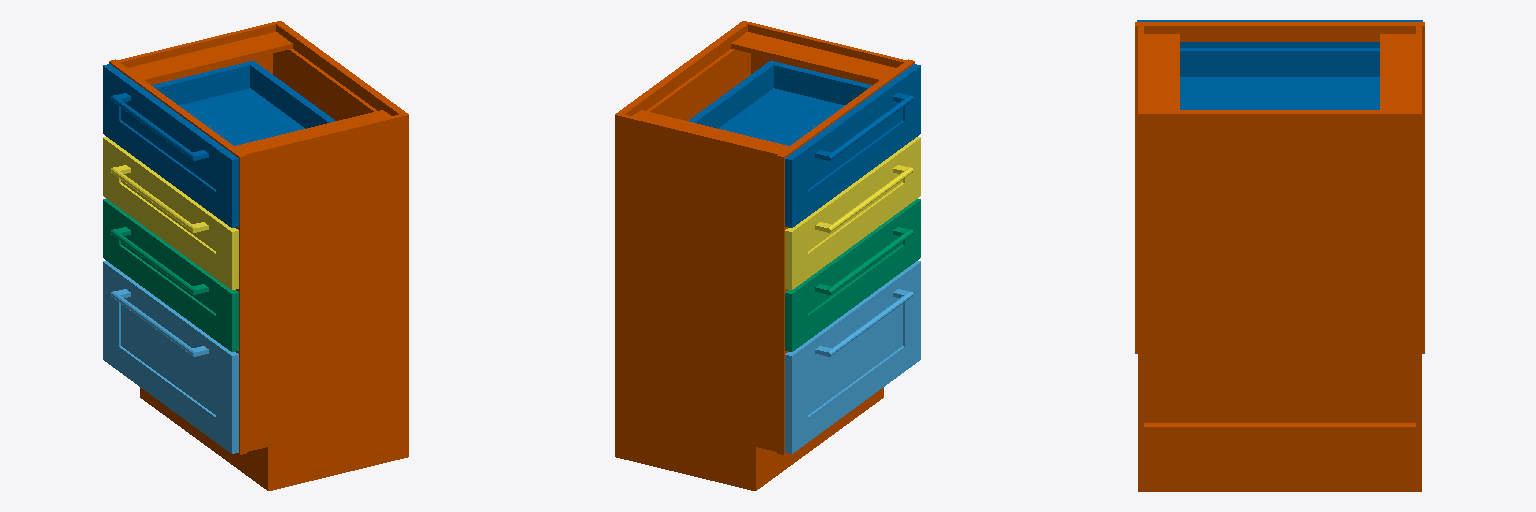
--- What the picture shows (computed from the rendered views, not written in the file) ---
3 views of the same robot in one strip: view 1: azimuth 30°, elevation 25°; view 2: azimuth 150°, elevation 25°; view 3: azimuth 270°, elevation 25° (orthographic).
Robot: partnet_2bdedc5d70cda02cc59350d819542ec7 — 6 links, 5 joints (4 prismatic, 1 fixed); root link base; default pose: all joints at 0.
Visible links, largest first — view 1: link_4, link_3, link_0, link_1, link_2; view 2: link_4, link_3, link_0, link_1, link_2; view 3: link_4, link_3.
Boxes of the visible links, x1,y1,x2,y2 form: link_4: (109,21,408,490); link_3: (103,61,334,227); link_0: (103,261,238,453); link_1: (103,199,238,351); link_2: (103,137,238,289); link_4: (615,21,914,490); link_3: (689,61,920,227); link_0: (785,261,920,453); link_1: (785,199,920,351); link_2: (785,137,920,289); link_4: (1135,22,1424,491); link_3: (1137,20,1422,109).
Size in the robot's own frame: 0.8572 by 1.01 by 1.45 metres.
85 mesh visuals loaded from 85 distinct referenced files (85 OBJ).

The robot description file, URDF, robot "partnet_2bdedc5d70cda02cc59350d819542ec7":
<?xml version="1.0" ?>
<robot name="partnet_2bdedc5d70cda02cc59350d819542ec7">
	<link name="base">
		<inertial>
			<origin xyz="0 0 0"/>
			<mass value="0.01"/>
			<inertia ixx="0.0001" ixy="0" ixz="0" iyy="0.0001" iyz="0" izz="0.0001"/>
		</inertial>
	</link>
	<link name="link_0">
		<visual name="drawer_front-31">
			<origin xyz="0.009567187752129709 0.435532604741988 -0.3665049970149996"/>
			<geometry>
				<mesh filename="textured_objs/original-63.obj"/>
			</geometry>
		</visual>
		<visual name="drawer_front-31">
			<origin xyz="0.009567187752129709 0.435532604741988 -0.3665049970149996"/>
			<geometry>
				<mesh filename="textured_objs/original-60.obj"/>
			</geometry>
		</visual>
		<visual name="drawer_front-31">
			<origin xyz="0.009567187752129709 0.435532604741988 -0.3665049970149996"/>
			<geometry>
				<mesh filename="textured_objs/original-59.obj"/>
			</geometry>
		</visual>
		<visual name="drawer_front-31">
			<origin xyz="0.009567187752129709 0.435532604741988 -0.3665049970149996"/>
			<geometry>
				<mesh filename="textured_objs/original-58.obj"/>
			</geometry>
		</visual>
		<visual name="drawer_front-31">
			<origin xyz="0.009567187752129709 0.435532604741988 -0.3665049970149996"/>
			<geometry>
				<mesh filename="textured_objs/original-57.obj"/>
			</geometry>
		</visual>
		<visual name="drawer_front-31">
			<origin xyz="0.009567187752129709 0.435532604741988 -0.3665049970149996"/>
			<geometry>
				<mesh filename="textured_objs/original-62.obj"/>
			</geometry>
		</visual>
		<visual name="drawer_front-31">
			<origin xyz="0.009567187752129709 0.435532604741988 -0.3665049970149996"/>
			<geometry>
				<mesh filename="textured_objs/original-49.obj"/>
			</geometry>
		</visual>
		<visual name="drawer_side-32">
			<origin xyz="0.009567187752129709 0.435532604741988 -0.3665049970149996"/>
			<geometry>
				<mesh filename="textured_objs/original-48.obj"/>
			</geometry>
		</visual>
		<visual name="drawer_side-33">
			<origin xyz="0.009567187752129709 0.435532604741988 -0.3665049970149996"/>
			<geometry>
				<mesh filename="textured_objs/original-53.obj"/>
			</geometry>
		</visual>
		<visual name="drawer_side-33">
			<origin xyz="0.009567187752129709 0.435532604741988 -0.3665049970149996"/>
			<geometry>
				<mesh filename="textured_objs/original-55.obj"/>
			</geometry>
		</visual>
		<visual name="drawer_back-34">
			<origin xyz="0.009567187752129709 0.435532604741988 -0.3665049970149996"/>
			<geometry>
				<mesh filename="textured_objs/original-54.obj"/>
			</geometry>
		</visual>
		<visual name="drawer_bottom-35">
			<origin xyz="0.009567187752129709 0.435532604741988 -0.3665049970149996"/>
			<geometry>
				<mesh filename="textured_objs/original-52.obj"/>
			</geometry>
		</visual>
		<visual name="drawer_bottom-35">
			<origin xyz="0.009567187752129709 0.435532604741988 -0.3665049970149996"/>
			<geometry>
				<mesh filename="textured_objs/original-51.obj"/>
			</geometry>
		</visual>
		<visual name="handle-30">
			<origin xyz="0.009567187752129709 0.435532604741988 -0.3665049970149996"/>
			<geometry>
				<mesh filename="textured_objs/original-65.obj"/>
			</geometry>
		</visual>
		<visual name="handle-30">
			<origin xyz="0.009567187752129709 0.435532604741988 -0.3665049970149996"/>
			<geometry>
				<mesh filename="textured_objs/original-66.obj"/>
			</geometry>
		</visual>
		<visual name="handle-30">
			<origin xyz="0.009567187752129709 0.435532604741988 -0.3665049970149996"/>
			<geometry>
				<mesh filename="textured_objs/original-67.obj"/>
			</geometry>
		</visual>
		<collision>
			<origin xyz="0.009567187752129709 0.435532604741988 -0.3665049970149996"/>
			<geometry>
				<mesh filename="textured_objs/original-63.obj"/>
			</geometry>
		</collision>
		<collision>
			<origin xyz="0.009567187752129709 0.435532604741988 -0.3665049970149996"/>
			<geometry>
				<mesh filename="textured_objs/original-60.obj"/>
			</geometry>
		</collision>
		<collision>
			<origin xyz="0.009567187752129709 0.435532604741988 -0.3665049970149996"/>
			<geometry>
				<mesh filename="textured_objs/original-59.obj"/>
			</geometry>
		</collision>
		<collision>
			<origin xyz="0.009567187752129709 0.435532604741988 -0.3665049970149996"/>
			<geometry>
				<mesh filename="textured_objs/original-58.obj"/>
			</geometry>
		</collision>
		<collision>
			<origin xyz="0.009567187752129709 0.435532604741988 -0.3665049970149996"/>
			<geometry>
				<mesh filename="textured_objs/original-57.obj"/>
			</geometry>
		</collision>
		<collision>
			<origin xyz="0.009567187752129709 0.435532604741988 -0.3665049970149996"/>
			<geometry>
				<mesh filename="textured_objs/original-62.obj"/>
			</geometry>
		</collision>
		<collision>
			<origin xyz="0.009567187752129709 0.435532604741988 -0.3665049970149996"/>
			<geometry>
				<mesh filename="textured_objs/original-49.obj"/>
			</geometry>
		</collision>
		<collision>
			<origin xyz="0.009567187752129709 0.435532604741988 -0.3665049970149996"/>
			<geometry>
				<mesh filename="textured_objs/original-48.obj"/>
			</geometry>
		</collision>
		<collision>
			<origin xyz="0.009567187752129709 0.435532604741988 -0.3665049970149996"/>
			<geometry>
				<mesh filename="textured_objs/original-53.obj"/>
			</geometry>
		</collision>
		<collision>
			<origin xyz="0.009567187752129709 0.435532604741988 -0.3665049970149996"/>
			<geometry>
				<mesh filename="textured_objs/original-55.obj"/>
			</geometry>
		</collision>
		<collision>
			<origin xyz="0.009567187752129709 0.435532604741988 -0.3665049970149996"/>
			<geometry>
				<mesh filename="textured_objs/original-54.obj"/>
			</geometry>
		</collision>
		<collision>
			<origin xyz="0.009567187752129709 0.435532604741988 -0.3665049970149996"/>
			<geometry>
				<mesh filename="textured_objs/original-52.obj"/>
			</geometry>
		</collision>
		<collision>
			<origin xyz="0.009567187752129709 0.435532604741988 -0.3665049970149996"/>
			<geometry>
				<mesh filename="textured_objs/original-51.obj"/>
			</geometry>
		</collision>
		<collision>
			<origin xyz="0.009567187752129709 0.435532604741988 -0.3665049970149996"/>
			<geometry>
				<mesh filename="textured_objs/original-65.obj"/>
			</geometry>
		</collision>
		<collision>
			<origin xyz="0.009567187752129709 0.435532604741988 -0.3665049970149996"/>
			<geometry>
				<mesh filename="textured_objs/original-66.obj"/>
			</geometry>
		</collision>
		<collision>
			<origin xyz="0.009567187752129709 0.435532604741988 -0.3665049970149996"/>
			<geometry>
				<mesh filename="textured_objs/original-67.obj"/>
			</geometry>
		</collision>
		<inertial>
			<origin xyz="0 0 0"/>
			<mass value="0.05"/>
			<inertia ixx="0.001" ixy="0" ixz="0" iyy="0.001" iyz="0" izz="0.001"/>
		</inertial>
	</link>
	<joint name="joint_0" type="prismatic">
		<origin xyz="-0.009567187752129709 -0.435532604741988 0.3665049970149996"/>
		<axis xyz="0 0 1"/>
		<child link="link_0"/>
		<parent link="link_4"/>
		<limit lower="0" upper="0.504"/>
		<dynamics damping="0.1" friction="0.01"/>
	</joint>
	<link name="link_1">
		<visual name="drawer_front-24">
			<origin xyz="0.02519710065310901 0.06335592315963547 0.36449798941612244"/>
			<geometry>
				<mesh filename="textured_objs/original-104.obj"/>
			</geometry>
		</visual>
		<visual name="drawer_front-24">
			<origin xyz="0.02519710065310901 0.06335592315963547 0.36449798941612244"/>
			<geometry>
				<mesh filename="textured_objs/original-107.obj"/>
			</geometry>
		</visual>
		<visual name="drawer_front-24">
			<origin xyz="0.02519710065310901 0.06335592315963547 0.36449798941612244"/>
			<geometry>
				<mesh filename="textured_objs/original-101.obj"/>
			</geometry>
		</visual>
		<visual name="drawer_front-24">
			<origin xyz="0.02519710065310901 0.06335592315963547 0.36449798941612244"/>
			<geometry>
				<mesh filename="textured_objs/original-103.obj"/>
			</geometry>
		</visual>
		<visual name="drawer_front-24">
			<origin xyz="0.02519710065310901 0.06335592315963547 0.36449798941612244"/>
			<geometry>
				<mesh filename="textured_objs/original-102.obj"/>
			</geometry>
		</visual>
		<visual name="drawer_front-24">
			<origin xyz="0.02519710065310901 0.06335592315963547 0.36449798941612244"/>
			<geometry>
				<mesh filename="textured_objs/original-93.obj"/>
			</geometry>
		</visual>
		<visual name="drawer_front-24">
			<origin xyz="0.02519710065310901 0.06335592315963547 0.36449798941612244"/>
			<geometry>
				<mesh filename="textured_objs/original-106.obj"/>
			</geometry>
		</visual>
		<visual name="drawer_side-25">
			<origin xyz="0.02519710065310901 0.06335592315963547 0.36449798941612244"/>
			<geometry>
				<mesh filename="textured_objs/original-92.obj"/>
			</geometry>
		</visual>
		<visual name="drawer_side-26">
			<origin xyz="0.02519710065310901 0.06335592315963547 0.36449798941612244"/>
			<geometry>
				<mesh filename="textured_objs/original-99.obj"/>
			</geometry>
		</visual>
		<visual name="drawer_side-26">
			<origin xyz="0.02519710065310901 0.06335592315963547 0.36449798941612244"/>
			<geometry>
				<mesh filename="textured_objs/original-97.obj"/>
			</geometry>
		</visual>
		<visual name="drawer_back-27">
			<origin xyz="0.02519710065310901 0.06335592315963547 0.36449798941612244"/>
			<geometry>
				<mesh filename="textured_objs/original-98.obj"/>
			</geometry>
		</visual>
		<visual name="drawer_bottom-28">
			<origin xyz="0.02519710065310901 0.06335592315963547 0.36449798941612244"/>
			<geometry>
				<mesh filename="textured_objs/original-96.obj"/>
			</geometry>
		</visual>
		<visual name="drawer_bottom-28">
			<origin xyz="0.02519710065310901 0.06335592315963547 0.36449798941612244"/>
			<geometry>
				<mesh filename="textured_objs/original-95.obj"/>
			</geometry>
		</visual>
		<visual name="handle-23">
			<origin xyz="0.02519710065310901 0.06335592315963547 0.36449798941612244"/>
			<geometry>
				<mesh filename="textured_objs/original-109.obj"/>
			</geometry>
		</visual>
		<visual name="handle-23">
			<origin xyz="0.02519710065310901 0.06335592315963547 0.36449798941612244"/>
			<geometry>
				<mesh filename="textured_objs/original-110.obj"/>
			</geometry>
		</visual>
		<visual name="handle-23">
			<origin xyz="0.02519710065310901 0.06335592315963547 0.36449798941612244"/>
			<geometry>
				<mesh filename="textured_objs/original-111.obj"/>
			</geometry>
		</visual>
		<collision>
			<origin xyz="0.02519710065310901 0.06335592315963547 0.36449798941612244"/>
			<geometry>
				<mesh filename="textured_objs/original-104.obj"/>
			</geometry>
		</collision>
		<collision>
			<origin xyz="0.02519710065310901 0.06335592315963547 0.36449798941612244"/>
			<geometry>
				<mesh filename="textured_objs/original-107.obj"/>
			</geometry>
		</collision>
		<collision>
			<origin xyz="0.02519710065310901 0.06335592315963547 0.36449798941612244"/>
			<geometry>
				<mesh filename="textured_objs/original-101.obj"/>
			</geometry>
		</collision>
		<collision>
			<origin xyz="0.02519710065310901 0.06335592315963547 0.36449798941612244"/>
			<geometry>
				<mesh filename="textured_objs/original-103.obj"/>
			</geometry>
		</collision>
		<collision>
			<origin xyz="0.02519710065310901 0.06335592315963547 0.36449798941612244"/>
			<geometry>
				<mesh filename="textured_objs/original-102.obj"/>
			</geometry>
		</collision>
		<collision>
			<origin xyz="0.02519710065310901 0.06335592315963547 0.36449798941612244"/>
			<geometry>
				<mesh filename="textured_objs/original-93.obj"/>
			</geometry>
		</collision>
		<collision>
			<origin xyz="0.02519710065310901 0.06335592315963547 0.36449798941612244"/>
			<geometry>
				<mesh filename="textured_objs/original-106.obj"/>
			</geometry>
		</collision>
		<collision>
			<origin xyz="0.02519710065310901 0.06335592315963547 0.36449798941612244"/>
			<geometry>
				<mesh filename="textured_objs/original-92.obj"/>
			</geometry>
		</collision>
		<collision>
			<origin xyz="0.02519710065310901 0.06335592315963547 0.36449798941612244"/>
			<geometry>
				<mesh filename="textured_objs/original-99.obj"/>
			</geometry>
		</collision>
		<collision>
			<origin xyz="0.02519710065310901 0.06335592315963547 0.36449798941612244"/>
			<geometry>
				<mesh filename="textured_objs/original-97.obj"/>
			</geometry>
		</collision>
		<collision>
			<origin xyz="0.02519710065310901 0.06335592315963547 0.36449798941612244"/>
			<geometry>
				<mesh filename="textured_objs/original-98.obj"/>
			</geometry>
		</collision>
		<collision>
			<origin xyz="0.02519710065310901 0.06335592315963547 0.36449798941612244"/>
			<geometry>
				<mesh filename="textured_objs/original-96.obj"/>
			</geometry>
		</collision>
		<collision>
			<origin xyz="0.02519710065310901 0.06335592315963547 0.36449798941612244"/>
			<geometry>
				<mesh filename="textured_objs/original-95.obj"/>
			</geometry>
		</collision>
		<collision>
			<origin xyz="0.02519710065310901 0.06335592315963547 0.36449798941612244"/>
			<geometry>
				<mesh filename="textured_objs/original-109.obj"/>
			</geometry>
		</collision>
		<collision>
			<origin xyz="0.02519710065310901 0.06335592315963547 0.36449798941612244"/>
			<geometry>
				<mesh filename="textured_objs/original-110.obj"/>
			</geometry>
		</collision>
		<collision>
			<origin xyz="0.02519710065310901 0.06335592315963547 0.36449798941612244"/>
			<geometry>
				<mesh filename="textured_objs/original-111.obj"/>
			</geometry>
		</collision>
		<inertial>
			<origin xyz="0 0 0"/>
			<mass value="0.05"/>
			<inertia ixx="0.001" ixy="0" ixz="0" iyy="0.001" iyz="0" izz="0.001"/>
		</inertial>
	</link>
	<joint name="joint_1" type="prismatic">
		<origin xyz="-0.02519710065310901 -0.06335592315963547 -0.36449798941612244"/>
		<axis xyz="0 0 1"/>
		<child link="link_1"/>
		<parent link="link_4"/>
		<limit lower="0" upper="0.504"/>
		<dynamics damping="0.1" friction="0.01"/>
	</joint>
	<link name="link_2">
		<visual name="drawer_front-17">
			<origin xyz="-0.002580218835720018 -0.21246546052932785 0.36449798941612244"/>
			<geometry>
				<mesh filename="textured_objs/original-79.obj"/>
			</geometry>
		</visual>
		<visual name="drawer_front-17">
			<origin xyz="-0.002580218835720018 -0.21246546052932785 0.36449798941612244"/>
			<geometry>
				<mesh filename="textured_objs/original-85.obj"/>
			</geometry>
		</visual>
		<visual name="drawer_front-17">
			<origin xyz="-0.002580218835720018 -0.21246546052932785 0.36449798941612244"/>
			<geometry>
				<mesh filename="textured_objs/original-80.obj"/>
			</geometry>
		</visual>
		<visual name="drawer_front-17">
			<origin xyz="-0.002580218835720018 -0.21246546052932785 0.36449798941612244"/>
			<geometry>
				<mesh filename="textured_objs/original-82.obj"/>
			</geometry>
		</visual>
		<visual name="drawer_front-17">
			<origin xyz="-0.002580218835720018 -0.21246546052932785 0.36449798941612244"/>
			<geometry>
				<mesh filename="textured_objs/original-84.obj"/>
			</geometry>
		</visual>
		<visual name="drawer_front-17">
			<origin xyz="-0.002580218835720018 -0.21246546052932785 0.36449798941612244"/>
			<geometry>
				<mesh filename="textured_objs/original-81.obj"/>
			</geometry>
		</visual>
		<visual name="drawer_front-17">
			<origin xyz="-0.002580218835720018 -0.21246546052932785 0.36449798941612244"/>
			<geometry>
				<mesh filename="textured_objs/original-71.obj"/>
			</geometry>
		</visual>
		<visual name="drawer_side-18">
			<origin xyz="-0.002580218835720018 -0.21246546052932785 0.36449798941612244"/>
			<geometry>
				<mesh filename="textured_objs/original-75.obj"/>
			</geometry>
		</visual>
		<visual name="drawer_side-18">
			<origin xyz="-0.002580218835720018 -0.21246546052932785 0.36449798941612244"/>
			<geometry>
				<mesh filename="textured_objs/original-77.obj"/>
			</geometry>
		</visual>
		<visual name="drawer_side-19">
			<origin xyz="-0.002580218835720018 -0.21246546052932785 0.36449798941612244"/>
			<geometry>
				<mesh filename="textured_objs/original-70.obj"/>
			</geometry>
		</visual>
		<visual name="drawer_back-20">
			<origin xyz="-0.002580218835720018 -0.21246546052932785 0.36449798941612244"/>
			<geometry>
				<mesh filename="textured_objs/original-76.obj"/>
			</geometry>
		</visual>
		<visual name="drawer_bottom-21">
			<origin xyz="-0.002580218835720018 -0.21246546052932785 0.36449798941612244"/>
			<geometry>
				<mesh filename="textured_objs/original-74.obj"/>
			</geometry>
		</visual>
		<visual name="drawer_bottom-21">
			<origin xyz="-0.002580218835720018 -0.21246546052932785 0.36449798941612244"/>
			<geometry>
				<mesh filename="textured_objs/original-73.obj"/>
			</geometry>
		</visual>
		<visual name="handle-16">
			<origin xyz="-0.002580218835720018 -0.21246546052932785 0.36449798941612244"/>
			<geometry>
				<mesh filename="textured_objs/original-87.obj"/>
			</geometry>
		</visual>
		<visual name="handle-16">
			<origin xyz="-0.002580218835720018 -0.21246546052932785 0.36449798941612244"/>
			<geometry>
				<mesh filename="textured_objs/original-88.obj"/>
			</geometry>
		</visual>
		<visual name="handle-16">
			<origin xyz="-0.002580218835720018 -0.21246546052932785 0.36449798941612244"/>
			<geometry>
				<mesh filename="textured_objs/original-89.obj"/>
			</geometry>
		</visual>
		<collision>
			<origin xyz="-0.002580218835720018 -0.21246546052932785 0.36449798941612244"/>
			<geometry>
				<mesh filename="textured_objs/original-79.obj"/>
			</geometry>
		</collision>
		<collision>
			<origin xyz="-0.002580218835720018 -0.21246546052932785 0.36449798941612244"/>
			<geometry>
				<mesh filename="textured_objs/original-85.obj"/>
			</geometry>
		</collision>
		<collision>
			<origin xyz="-0.002580218835720018 -0.21246546052932785 0.36449798941612244"/>
			<geometry>
				<mesh filename="textured_objs/original-80.obj"/>
			</geometry>
		</collision>
		<collision>
			<origin xyz="-0.002580218835720018 -0.21246546052932785 0.36449798941612244"/>
			<geometry>
				<mesh filename="textured_objs/original-82.obj"/>
			</geometry>
		</collision>
		<collision>
			<origin xyz="-0.002580218835720018 -0.21246546052932785 0.36449798941612244"/>
			<geometry>
				<mesh filename="textured_objs/original-84.obj"/>
			</geometry>
		</collision>
		<collision>
			<origin xyz="-0.002580218835720018 -0.21246546052932785 0.36449798941612244"/>
			<geometry>
				<mesh filename="textured_objs/original-81.obj"/>
			</geometry>
		</collision>
		<collision>
			<origin xyz="-0.002580218835720018 -0.21246546052932785 0.36449798941612244"/>
			<geometry>
				<mesh filename="textured_objs/original-71.obj"/>
			</geometry>
		</collision>
		<collision>
			<origin xyz="-0.002580218835720018 -0.21246546052932785 0.36449798941612244"/>
			<geometry>
				<mesh filename="textured_objs/original-75.obj"/>
			</geometry>
		</collision>
		<collision>
			<origin xyz="-0.002580218835720018 -0.21246546052932785 0.36449798941612244"/>
			<geometry>
				<mesh filename="textured_objs/original-77.obj"/>
			</geometry>
		</collision>
		<collision>
			<origin xyz="-0.002580218835720018 -0.21246546052932785 0.36449798941612244"/>
			<geometry>
				<mesh filename="textured_objs/original-70.obj"/>
			</geometry>
		</collision>
		<collision>
			<origin xyz="-0.002580218835720018 -0.21246546052932785 0.36449798941612244"/>
			<geometry>
				<mesh filename="textured_objs/original-76.obj"/>
			</geometry>
		</collision>
		<collision>
			<origin xyz="-0.002580218835720018 -0.21246546052932785 0.36449798941612244"/>
			<geometry>
				<mesh filename="textured_objs/original-74.obj"/>
			</geometry>
		</collision>
		<collision>
			<origin xyz="-0.002580218835720018 -0.21246546052932785 0.36449798941612244"/>
			<geometry>
				<mesh filename="textured_objs/original-73.obj"/>
			</geometry>
		</collision>
		<collision>
			<origin xyz="-0.002580218835720018 -0.21246546052932785 0.36449798941612244"/>
			<geometry>
				<mesh filename="textured_objs/original-87.obj"/>
			</geometry>
		</collision>
		<collision>
			<origin xyz="-0.002580218835720018 -0.21246546052932785 0.36449798941612244"/>
			<geometry>
				<mesh filename="textured_objs/original-88.obj"/>
			</geometry>
		</collision>
		<collision>
			<origin xyz="-0.002580218835720018 -0.21246546052932785 0.36449798941612244"/>
			<geometry>
				<mesh filename="textured_objs/original-89.obj"/>
			</geometry>
		</collision>
		<inertial>
			<origin xyz="0 0 0"/>
			<mass value="0.05"/>
			<inertia ixx="0.001" ixy="0" ixz="0" iyy="0.001" iyz="0" izz="0.001"/>
		</inertial>
	</link>
	<joint name="joint_2" type="prismatic">
		<origin xyz="0.002580218835720018 0.21246546052932785 -0.36449798941612244"/>
		<axis xyz="0 0 1"/>
		<child link="link_2"/>
		<parent link="link_4"/>
		<limit lower="0" upper="0.504"/>
		<dynamics damping="0.1" friction="0.01"/>
	</joint>
	<link name="link_3">
		<visual name="drawer_front-10">
			<origin xyz="-0.006071405476377854 -0.48437233339913544 0.36449798941612244"/>
			<geometry>
				<mesh filename="textured_objs/original-35.obj"/>
			</geometry>
		</visual>
		<visual name="drawer_front-10">
			<origin xyz="-0.006071405476377854 -0.48437233339913544 0.36449798941612244"/>
			<geometry>
				<mesh filename="textured_objs/original-41.obj"/>
			</geometry>
		</visual>
		<visual name="drawer_front-10">
			<origin xyz="-0.006071405476377854 -0.48437233339913544 0.36449798941612244"/>
			<geometry>
				<mesh filename="textured_objs/original-37.obj"/>
			</geometry>
		</visual>
		<visual name="drawer_front-10">
			<origin xyz="-0.006071405476377854 -0.48437233339913544 0.36449798941612244"/>
			<geometry>
				<mesh filename="textured_objs/original-38.obj"/>
			</geometry>
		</visual>
		<visual name="drawer_front-10">
			<origin xyz="-0.006071405476377854 -0.48437233339913544 0.36449798941612244"/>
			<geometry>
				<mesh filename="textured_objs/original-36.obj"/>
			</geometry>
		</visual>
		<visual name="drawer_front-10">
			<origin xyz="-0.006071405476377854 -0.48437233339913544 0.36449798941612244"/>
			<geometry>
				<mesh filename="textured_objs/original-27.obj"/>
			</geometry>
		</visual>
		<visual name="drawer_front-10">
			<origin xyz="-0.006071405476377854 -0.48437233339913544 0.36449798941612244"/>
			<geometry>
				<mesh filename="textured_objs/original-40.obj"/>
			</geometry>
		</visual>
		<visual name="drawer_side-11">
			<origin xyz="-0.006071405476377854 -0.48437233339913544 0.36449798941612244"/>
			<geometry>
				<mesh filename="textured_objs/original-31.obj"/>
			</geometry>
		</visual>
		<visual name="drawer_side-11">
			<origin xyz="-0.006071405476377854 -0.48437233339913544 0.36449798941612244"/>
			<geometry>
				<mesh filename="textured_objs/original-33.obj"/>
			</geometry>
		</visual>
		<visual name="drawer_side-12">
			<origin xyz="-0.006071405476377854 -0.48437233339913544 0.36449798941612244"/>
			<geometry>
				<mesh filename="textured_objs/original-26.obj"/>
			</geometry>
		</visual>
		<visual name="drawer_back-13">
			<origin xyz="-0.006071405476377854 -0.48437233339913544 0.36449798941612244"/>
			<geometry>
				<mesh filename="textured_objs/original-32.obj"/>
			</geometry>
		</visual>
		<visual name="drawer_bottom-14">
			<origin xyz="-0.006071405476377854 -0.48437233339913544 0.36449798941612244"/>
			<geometry>
				<mesh filename="textured_objs/original-30.obj"/>
			</geometry>
		</visual>
		<visual name="drawer_bottom-14">
			<origin xyz="-0.006071405476377854 -0.48437233339913544 0.36449798941612244"/>
			<geometry>
				<mesh filename="textured_objs/original-29.obj"/>
			</geometry>
		</visual>
		<visual name="handle-9">
			<origin xyz="-0.006071405476377854 -0.48437233339913544 0.36449798941612244"/>
			<geometry>
				<mesh filename="textured_objs/original-43.obj"/>
			</geometry>
		</visual>
		<visual name="handle-9">
			<origin xyz="-0.006071405476377854 -0.48437233339913544 0.36449798941612244"/>
			<geometry>
				<mesh filename="textured_objs/original-44.obj"/>
			</geometry>
		</visual>
		<visual name="handle-9">
			<origin xyz="-0.006071405476377854 -0.48437233339913544 0.36449798941612244"/>
			<geometry>
				<mesh filename="textured_objs/original-45.obj"/>
			</geometry>
		</visual>
		<collision>
			<origin xyz="-0.006071405476377854 -0.48437233339913544 0.36449798941612244"/>
			<geometry>
				<mesh filename="textured_objs/original-35.obj"/>
			</geometry>
		</collision>
		<collision>
			<origin xyz="-0.006071405476377854 -0.48437233339913544 0.36449798941612244"/>
			<geometry>
				<mesh filename="textured_objs/original-41.obj"/>
			</geometry>
		</collision>
		<collision>
			<origin xyz="-0.006071405476377854 -0.48437233339913544 0.36449798941612244"/>
			<geometry>
				<mesh filename="textured_objs/original-37.obj"/>
			</geometry>
		</collision>
		<collision>
			<origin xyz="-0.006071405476377854 -0.48437233339913544 0.36449798941612244"/>
			<geometry>
				<mesh filename="textured_objs/original-38.obj"/>
			</geometry>
		</collision>
		<collision>
			<origin xyz="-0.006071405476377854 -0.48437233339913544 0.36449798941612244"/>
			<geometry>
				<mesh filename="textured_objs/original-36.obj"/>
			</geometry>
		</collision>
		<collision>
			<origin xyz="-0.006071405476377854 -0.48437233339913544 0.36449798941612244"/>
			<geometry>
				<mesh filename="textured_objs/original-27.obj"/>
			</geometry>
		</collision>
		<collision>
			<origin xyz="-0.006071405476377854 -0.48437233339913544 0.36449798941612244"/>
			<geometry>
				<mesh filename="textured_objs/original-40.obj"/>
			</geometry>
		</collision>
		<collision>
			<origin xyz="-0.006071405476377854 -0.48437233339913544 0.36449798941612244"/>
			<geometry>
				<mesh filename="textured_objs/original-31.obj"/>
			</geometry>
		</collision>
		<collision>
			<origin xyz="-0.006071405476377854 -0.48437233339913544 0.36449798941612244"/>
			<geometry>
				<mesh filename="textured_objs/original-33.obj"/>
			</geometry>
		</collision>
		<collision>
			<origin xyz="-0.006071405476377854 -0.48437233339913544 0.36449798941612244"/>
			<geometry>
				<mesh filename="textured_objs/original-26.obj"/>
			</geometry>
		</collision>
		<collision>
			<origin xyz="-0.006071405476377854 -0.48437233339913544 0.36449798941612244"/>
			<geometry>
				<mesh filename="textured_objs/original-32.obj"/>
			</geometry>
		</collision>
		<collision>
			<origin xyz="-0.006071405476377854 -0.48437233339913544 0.36449798941612244"/>
			<geometry>
				<mesh filename="textured_objs/original-30.obj"/>
			</geometry>
		</collision>
		<collision>
			<origin xyz="-0.006071405476377854 -0.48437233339913544 0.36449798941612244"/>
			<geometry>
				<mesh filename="textured_objs/original-29.obj"/>
			</geometry>
		</collision>
		<collision>
			<origin xyz="-0.006071405476377854 -0.48437233339913544 0.36449798941612244"/>
			<geometry>
				<mesh filename="textured_objs/original-43.obj"/>
			</geometry>
		</collision>
		<collision>
			<origin xyz="-0.006071405476377854 -0.48437233339913544 0.36449798941612244"/>
			<geometry>
				<mesh filename="textured_objs/original-44.obj"/>
			</geometry>
		</collision>
		<collision>
			<origin xyz="-0.006071405476377854 -0.48437233339913544 0.36449798941612244"/>
			<geometry>
				<mesh filename="textured_objs/original-45.obj"/>
			</geometry>
		</collision>
		<inertial>
			<origin xyz="0 0 0"/>
			<mass value="0.05"/>
			<inertia ixx="0.001" ixy="0" ixz="0" iyy="0.001" iyz="0" izz="0.001"/>
		</inertial>
	</link>
	<joint name="joint_3" type="prismatic">
		<origin xyz="0.006071405476377854 0.48437233339913544 -0.36449798941612244"/>
		<axis xyz="0 0 1"/>
		<child link="link_3"/>
		<parent link="link_4"/>
		<limit lower="0" upper="0.504"/>
		<dynamics damping="0.1" friction="0.01"/>
	</joint>
	<link name="link_4">
		<visual name="vertical_side_panel-41">
			<origin xyz="0 0 0"/>
			<geometry>
				<mesh filename="textured_objs/original-11.obj"/>
			</geometry>
		</visual>
		<visual name="vertical_side_panel-41">
			<origin xyz="0 0 0"/>
			<geometry>
				<mesh filename="textured_objs/original-10.obj"/>
			</geometry>
		</visual>
		<visual name="vertical_side_panel-42">
			<origin xyz="0 0 0"/>
			<geometry>
				<mesh filename="textured_objs/original-15.obj"/>
			</geometry>
		</visual>
		<visual name="vertical_side_panel-42">
			<origin xyz="0 0 0"/>
			<geometry>
				<mesh filename="textured_objs/original-14.obj"/>
			</geometry>
		</visual>
		<visual name="back_panel-43">
			<origin xyz="0 0 0"/>
			<geometry>
				<mesh filename="textured_objs/original-5.obj"/>
			</geometry>
		</visual>
		<visual name="bottom_panel-44">
			<origin xyz="0 0 0"/>
			<geometry>
				<mesh filename="textured_objs/original-2.obj"/>
			</geometry>
		</visual>
		<visual name="frame_vertical_bar-45">
			<origin xyz="0 0 0"/>
			<geometry>
				<mesh filename="textured_objs/original-3.obj"/>
			</geometry>
		</visual>
		<visual name="frame_vertical_bar-46">
			<origin xyz="0 0 0"/>
			<geometry>
				<mesh filename="textured_objs/original-7.obj"/>
			</geometry>
		</visual>
		<visual name="frame_horizontal_bar-47">
			<origin xyz="0 0 0"/>
			<geometry>
				<mesh filename="textured_objs/original-21.obj"/>
			</geometry>
		</visual>
		<visual name="frame_horizontal_bar-48">
			<origin xyz="0 0 0"/>
			<geometry>
				<mesh filename="textured_objs/original-20.obj"/>
			</geometry>
		</visual>
		<visual name="frame_horizontal_bar-49">
			<origin xyz="0 0 0"/>
			<geometry>
				<mesh filename="textured_objs/original-8.obj"/>
			</geometry>
		</visual>
		<visual name="frame_horizontal_bar-50">
			<origin xyz="0 0 0"/>
			<geometry>
				<mesh filename="textured_objs/original-23.obj"/>
			</geometry>
		</visual>
		<visual name="frame_horizontal_bar-51">
			<origin xyz="0 0 0"/>
			<geometry>
				<mesh filename="textured_objs/original-22.obj"/>
			</geometry>
		</visual>
		<visual name="frame_horizontal_bar-52">
			<origin xyz="0 0 0"/>
			<geometry>
				<mesh filename="textured_objs/original-17.obj"/>
			</geometry>
		</visual>
		<visual name="frame_horizontal_bar-53">
			<origin xyz="0 0 0"/>
			<geometry>
				<mesh filename="textured_objs/original-6.obj"/>
			</geometry>
		</visual>
		<visual name="frame_horizontal_bar-54">
			<origin xyz="0 0 0"/>
			<geometry>
				<mesh filename="textured_objs/original-4.obj"/>
			</geometry>
		</visual>
		<visual name="other_leaf-56">
			<origin xyz="0 0 0"/>
			<geometry>
				<mesh filename="textured_objs/original-112.obj"/>
			</geometry>
		</visual>
		<visual name="base_side_panel-37">
			<origin xyz="0 0 0"/>
			<geometry>
				<mesh filename="textured_objs/original-12.obj"/>
			</geometry>
		</visual>
		<visual name="base_side_panel-38">
			<origin xyz="0 0 0"/>
			<geometry>
				<mesh filename="textured_objs/original-18.obj"/>
			</geometry>
		</visual>
		<visual name="base_side_panel-39">
			<origin xyz="0 0 0"/>
			<geometry>
				<mesh filename="textured_objs/original-16.obj"/>
			</geometry>
		</visual>
		<visual name="base_side_panel-40">
			<origin xyz="0 0 0"/>
			<geometry>
				<mesh filename="textured_objs/original-19.obj"/>
			</geometry>
		</visual>
		<collision>
			<origin xyz="0 0 0"/>
			<geometry>
				<mesh filename="textured_objs/original-11.obj"/>
			</geometry>
		</collision>
		<collision>
			<origin xyz="0 0 0"/>
			<geometry>
				<mesh filename="textured_objs/original-10.obj"/>
			</geometry>
		</collision>
		<collision>
			<origin xyz="0 0 0"/>
			<geometry>
				<mesh filename="textured_objs/original-15.obj"/>
			</geometry>
		</collision>
		<collision>
			<origin xyz="0 0 0"/>
			<geometry>
				<mesh filename="textured_objs/original-14.obj"/>
			</geometry>
		</collision>
		<collision>
			<origin xyz="0 0 0"/>
			<geometry>
				<mesh filename="textured_objs/original-5.obj"/>
			</geometry>
		</collision>
		<collision>
			<origin xyz="0 0 0"/>
			<geometry>
				<mesh filename="textured_objs/original-2.obj"/>
			</geometry>
		</collision>
		<collision>
			<origin xyz="0 0 0"/>
			<geometry>
				<mesh filename="textured_objs/original-3.obj"/>
			</geometry>
		</collision>
		<collision>
			<origin xyz="0 0 0"/>
			<geometry>
				<mesh filename="textured_objs/original-7.obj"/>
			</geometry>
		</collision>
		<collision>
			<origin xyz="0 0 0"/>
			<geometry>
				<mesh filename="textured_objs/original-21.obj"/>
			</geometry>
		</collision>
		<collision>
			<origin xyz="0 0 0"/>
			<geometry>
				<mesh filename="textured_objs/original-20.obj"/>
			</geometry>
		</collision>
		<collision>
			<origin xyz="0 0 0"/>
			<geometry>
				<mesh filename="textured_objs/original-8.obj"/>
			</geometry>
		</collision>
		<collision>
			<origin xyz="0 0 0"/>
			<geometry>
				<mesh filename="textured_objs/original-23.obj"/>
			</geometry>
		</collision>
		<collision>
			<origin xyz="0 0 0"/>
			<geometry>
				<mesh filename="textured_objs/original-22.obj"/>
			</geometry>
		</collision>
		<collision>
			<origin xyz="0 0 0"/>
			<geometry>
				<mesh filename="textured_objs/original-17.obj"/>
			</geometry>
		</collision>
		<collision>
			<origin xyz="0 0 0"/>
			<geometry>
				<mesh filename="textured_objs/original-6.obj"/>
			</geometry>
		</collision>
		<collision>
			<origin xyz="0 0 0"/>
			<geometry>
				<mesh filename="textured_objs/original-4.obj"/>
			</geometry>
		</collision>
		<collision>
			<origin xyz="0 0 0"/>
			<geometry>
				<mesh filename="textured_objs/original-112.obj"/>
			</geometry>
		</collision>
		<collision>
			<origin xyz="0 0 0"/>
			<geometry>
				<mesh filename="textured_objs/original-12.obj"/>
			</geometry>
		</collision>
		<collision>
			<origin xyz="0 0 0"/>
			<geometry>
				<mesh filename="textured_objs/original-18.obj"/>
			</geometry>
		</collision>
		<collision>
			<origin xyz="0 0 0"/>
			<geometry>
				<mesh filename="textured_objs/original-16.obj"/>
			</geometry>
		</collision>
		<collision>
			<origin xyz="0 0 0"/>
			<geometry>
				<mesh filename="textured_objs/original-19.obj"/>
			</geometry>
		</collision>
		<inertial>
			<origin xyz="0 0 0"/>
			<mass value="2.0"/>
			<inertia ixx="0.01" ixy="0" ixz="0" iyy="0.01" iyz="0" izz="0.01"/>
		</inertial>
	</link>
	<joint name="joint_4" type="fixed">
		<origin rpy="1.570796326794897 0 -1.570796326794897" xyz="0 0 0"/>
		<child link="link_4"/>
		<parent link="base"/>
	</joint>
</robot>
